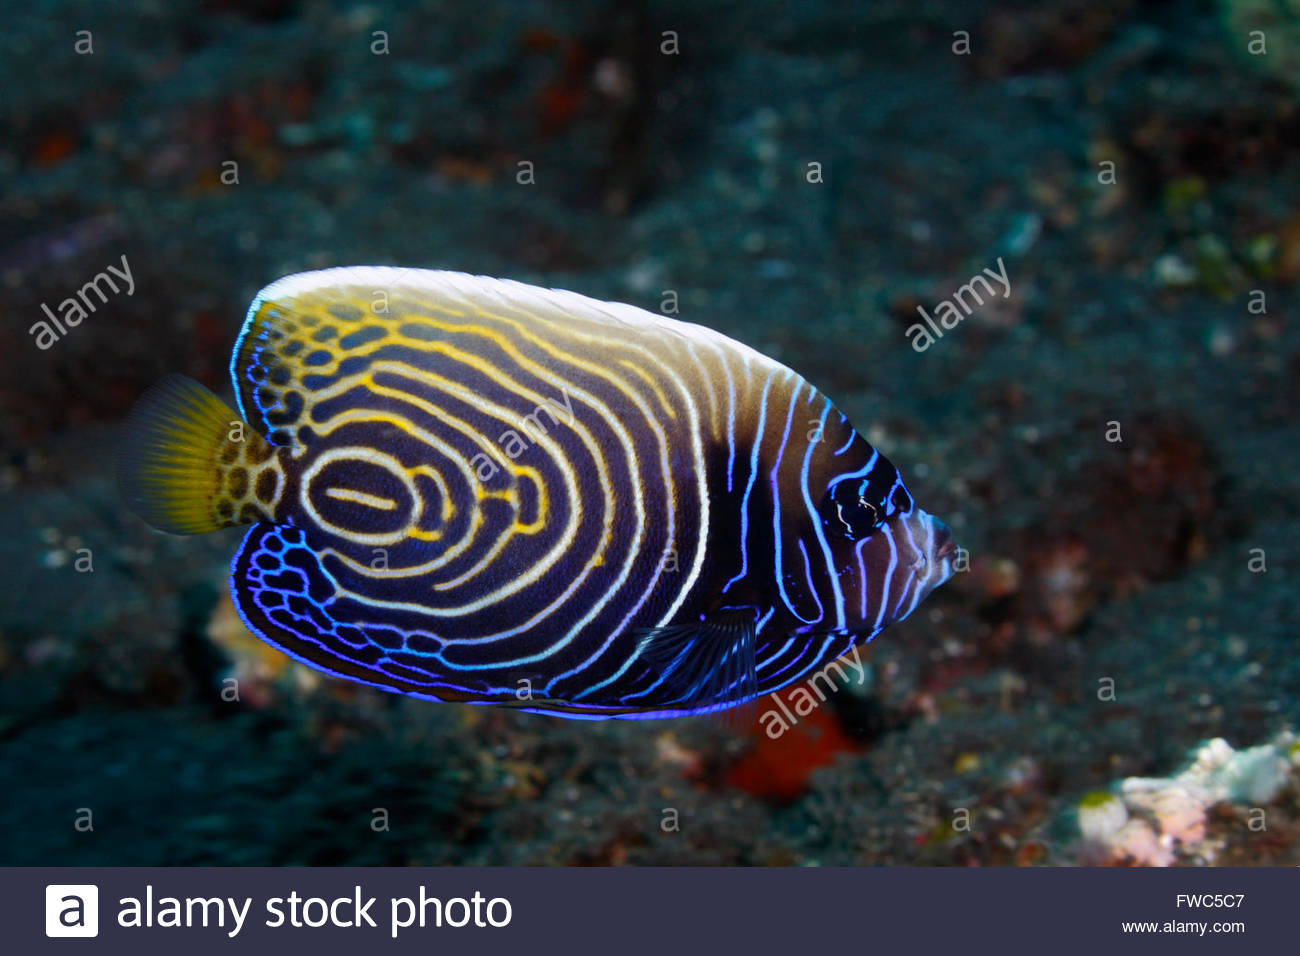Pomacanthus_imperator: (146, 231, 968, 741)
